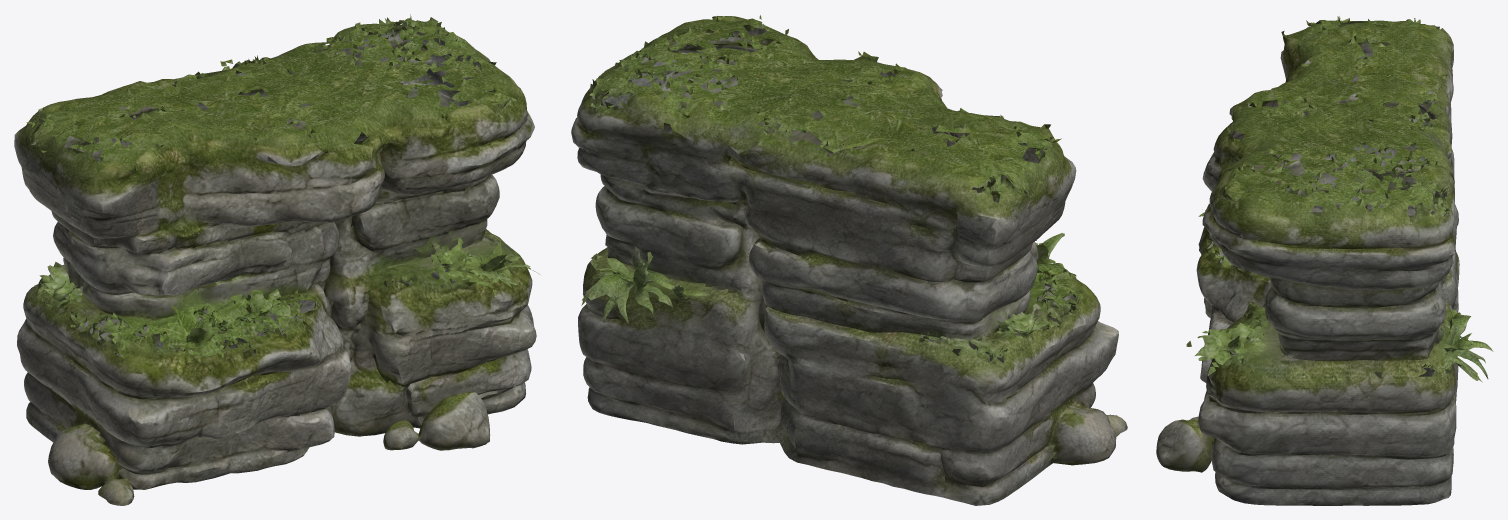
The model's file is meadows_cliff_b.glb.
The picture shows the model from 3 angles, left to right: view 1: azimuth 30°, elevation 25°; view 2: azimuth 150°, elevation 25°; view 3: azimuth 270°, elevation 25°; orthographic projection. The views are drawn at different scales.
Parts seen in each view (by area): view 1: Mesh_0; view 2: Mesh_0; view 3: Mesh_0.
Boxes of the visible parts, <box> form: Mesh_0: <box>14,14,539,505</box>; Mesh_0: <box>571,15,1127,505</box>; Mesh_0: <box>1156,16,1493,505</box>.
Size of the model in its own units: 1.9 by 1.28 by 1.23.
Materials: 1 (1 with a texture image).
